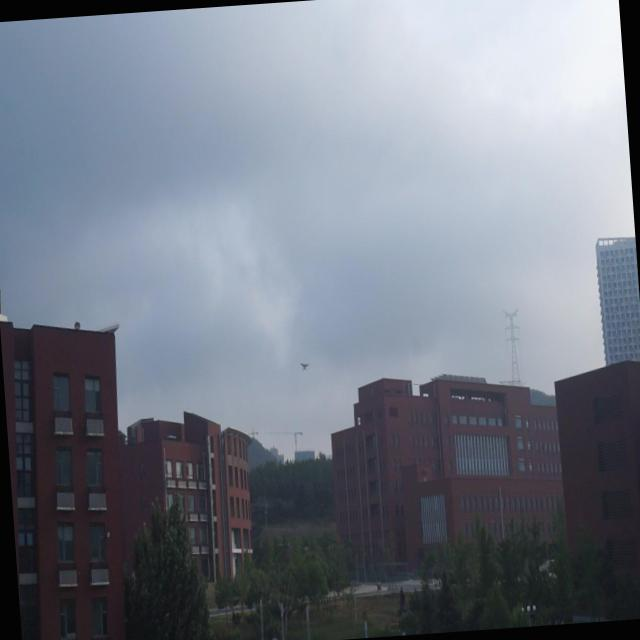drone: (300, 358, 310, 373)
